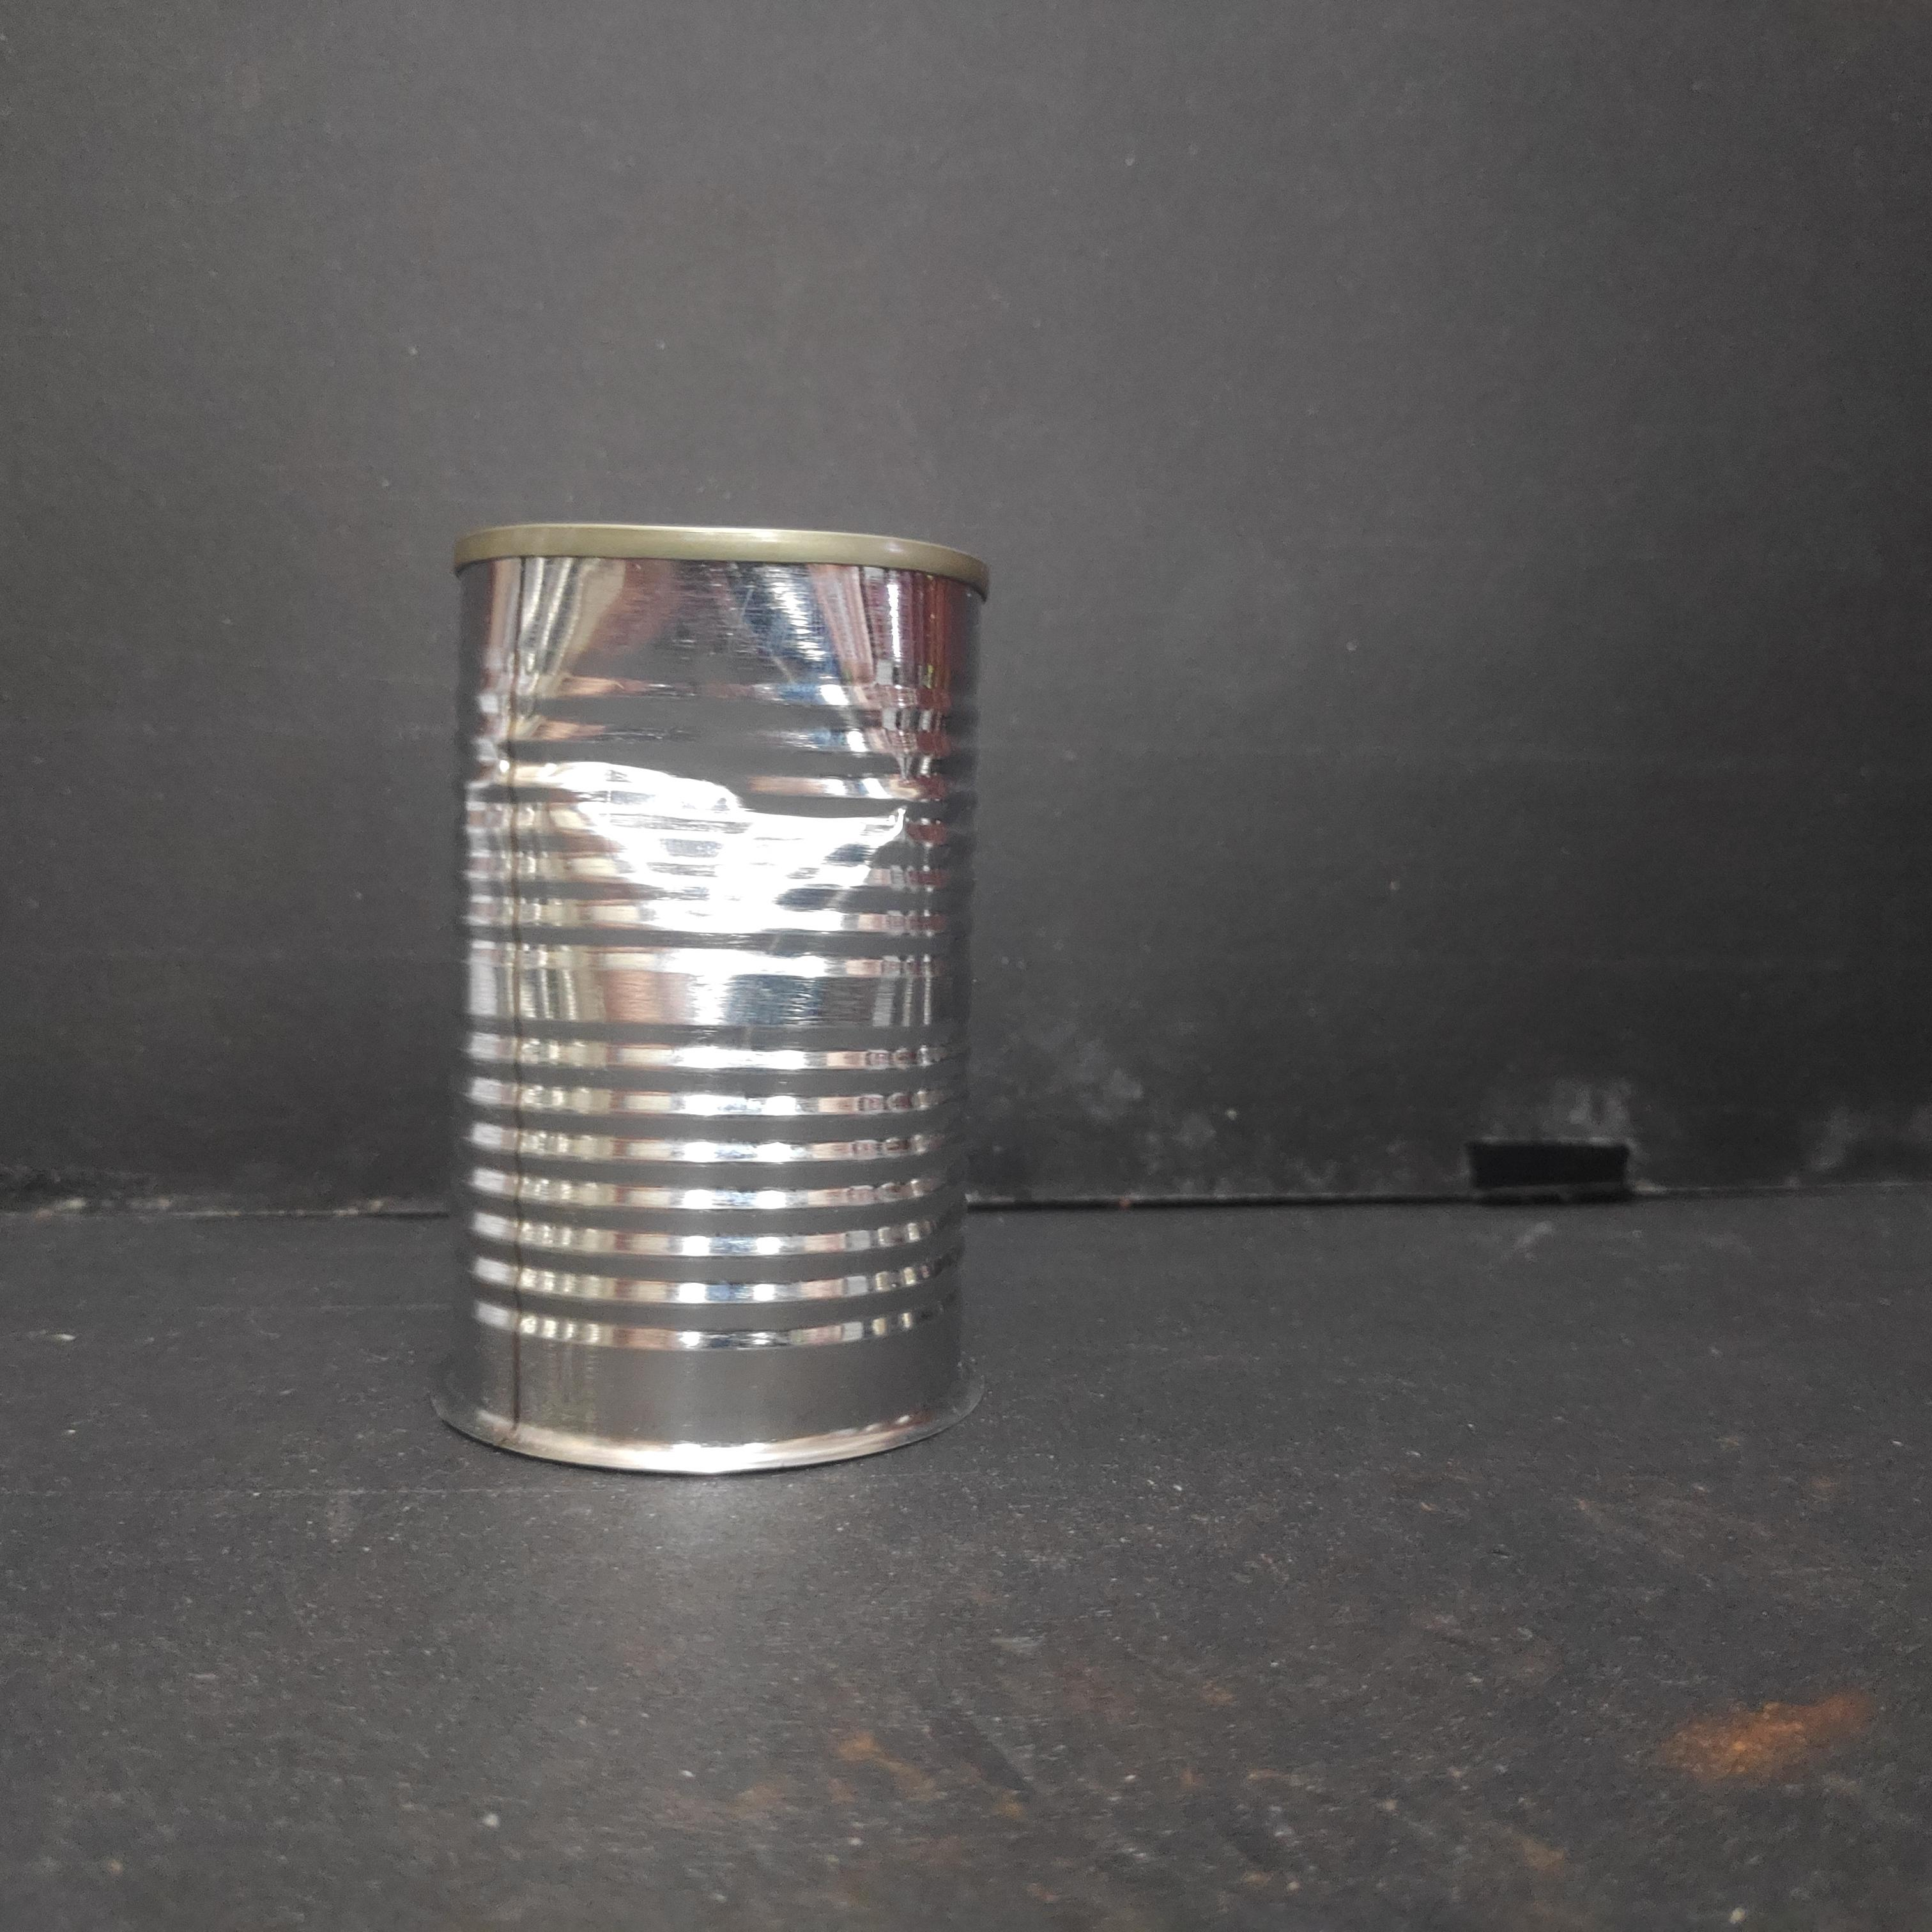Minor Defect: (423, 499, 1000, 1483)
